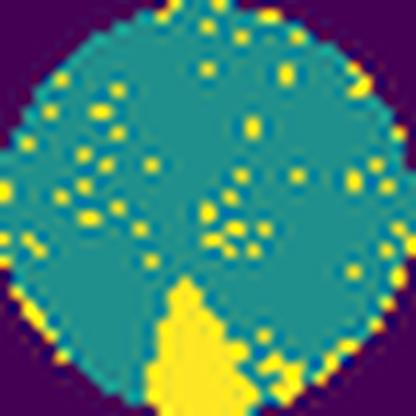Loc: (142, 273, 260, 416), (258, 349, 304, 401)
